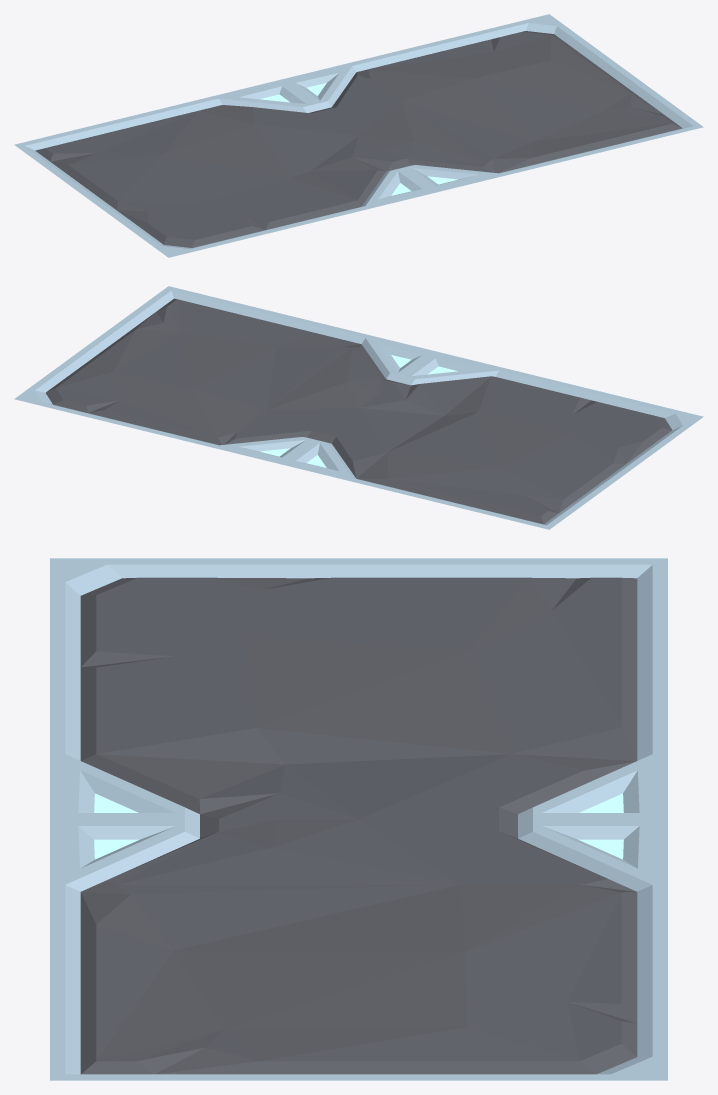
File: Floor_Medium_Long.fbx
3 views of the same model, one above another, from view 1: azimuth 30°, elevation 25°; view 2: azimuth 150°, elevation 25°; view 3: azimuth 270°, elevation 25° (orthographic). The views are drawn at different scales.
Parts seen in each view (by area): view 1: Floor_Medium_Long; view 2: Floor_Medium_Long; view 3: Floor_Medium_Long.
Part boxes in pixels (left/top/right/bottom): Floor_Medium_Long: left=14, top=14, right=703, bottom=257; Floor_Medium_Long: left=14, top=286, right=703, bottom=529; Floor_Medium_Long: left=50, top=558, right=667, bottom=1080.
Size of the model in its own units: 16 by 0.2417 by 8.
